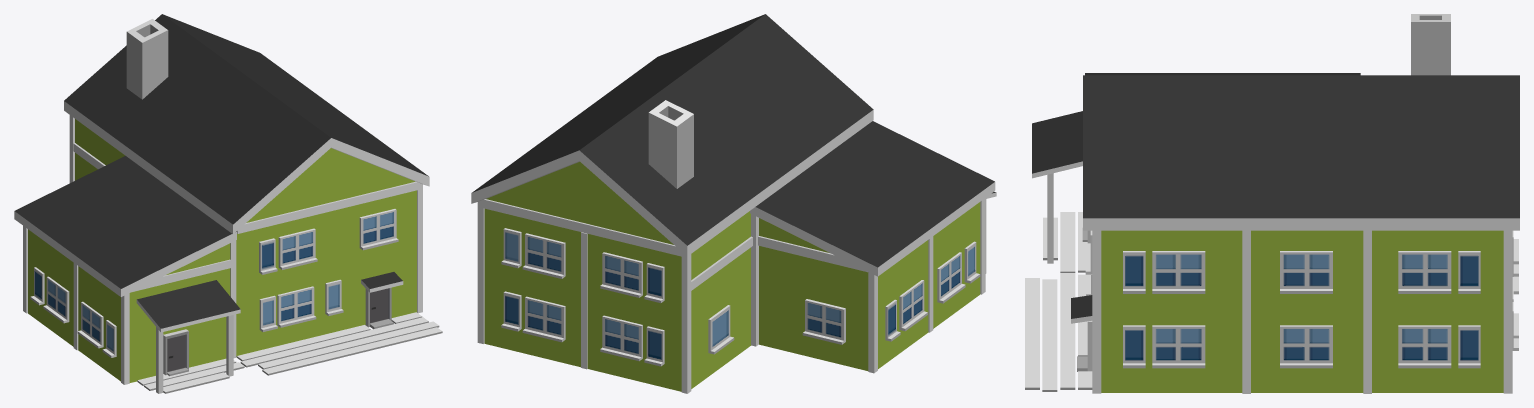
Rendered from Suburb House 5.fbx.
3 views of the same model, side by side, from view 1: azimuth 30°, elevation 25°; view 2: azimuth 150°, elevation 25°; view 3: azimuth 270°, elevation 25° (orthographic). The views are drawn at different scales.
Visible parts, largest first — view 1: Suburb House 5; view 2: Suburb House 5; view 3: Suburb House 5.
Boxes of the visible parts, x1,y1,x2,y2 form: Suburb House 5: [14, 14, 442, 393]; Suburb House 5: [471, 14, 996, 393]; Suburb House 5: [1025, 14, 1519, 393].
Size of the model in its own units: 6.44 by 4.47 by 6.93.
